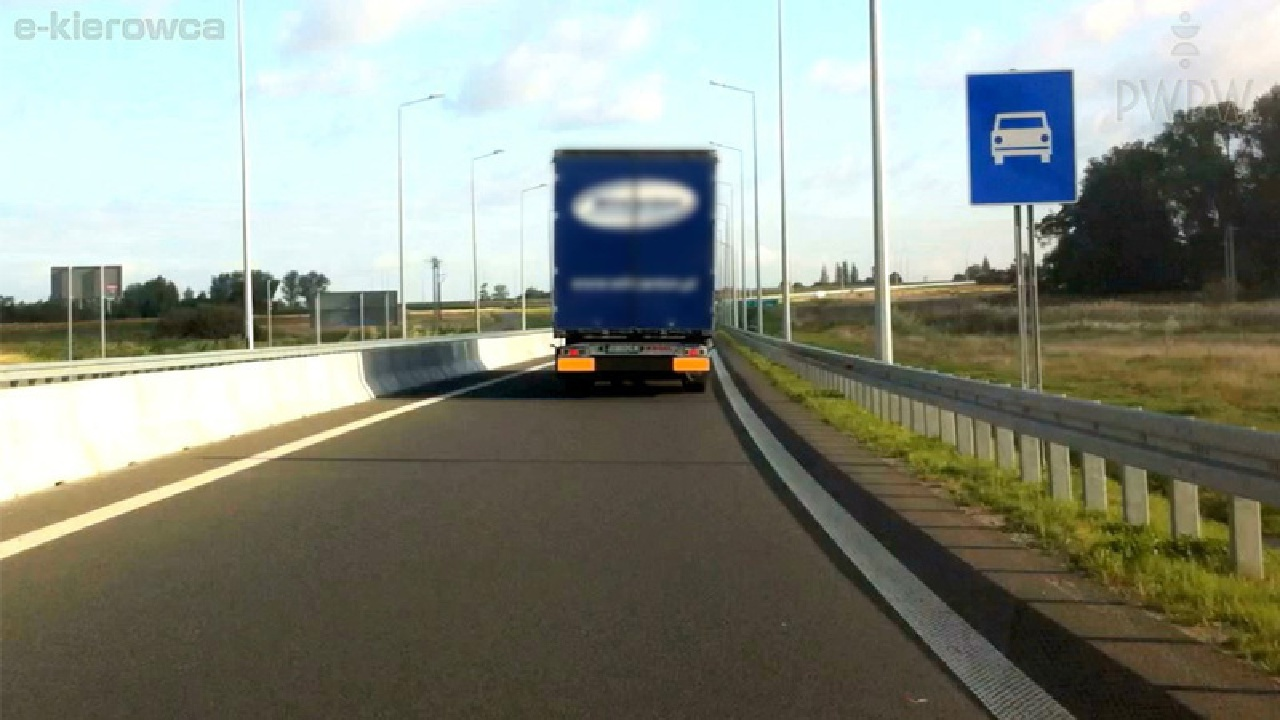D7: (966, 69, 1079, 205)
